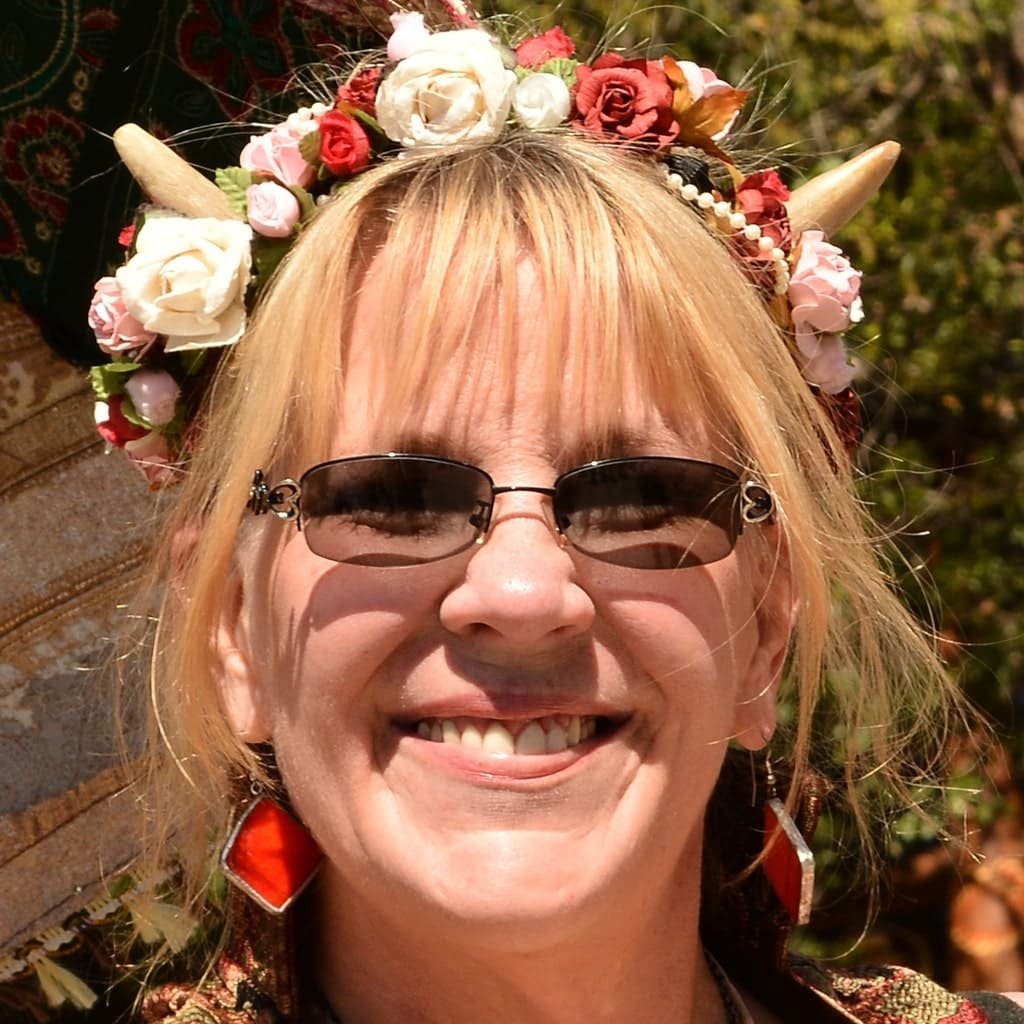without_mask: (268, 365, 749, 888)
